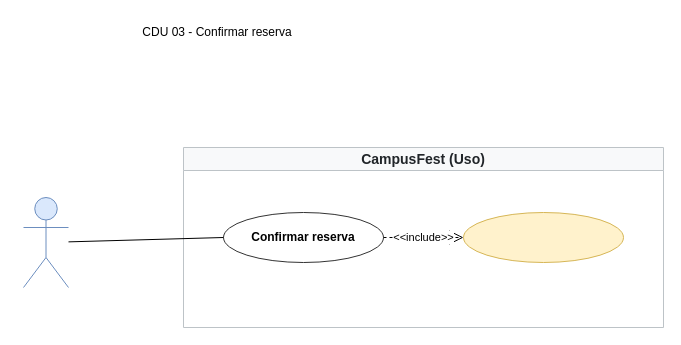
The diagram is 681 pixels wide and 345 high, and some of its shapes have lost their labels. Each missing label, with the centre of its shape:
"Consultar eventos" belongs at (x=543, y=237).
"Estudiante" belongs at (x=45, y=242).
